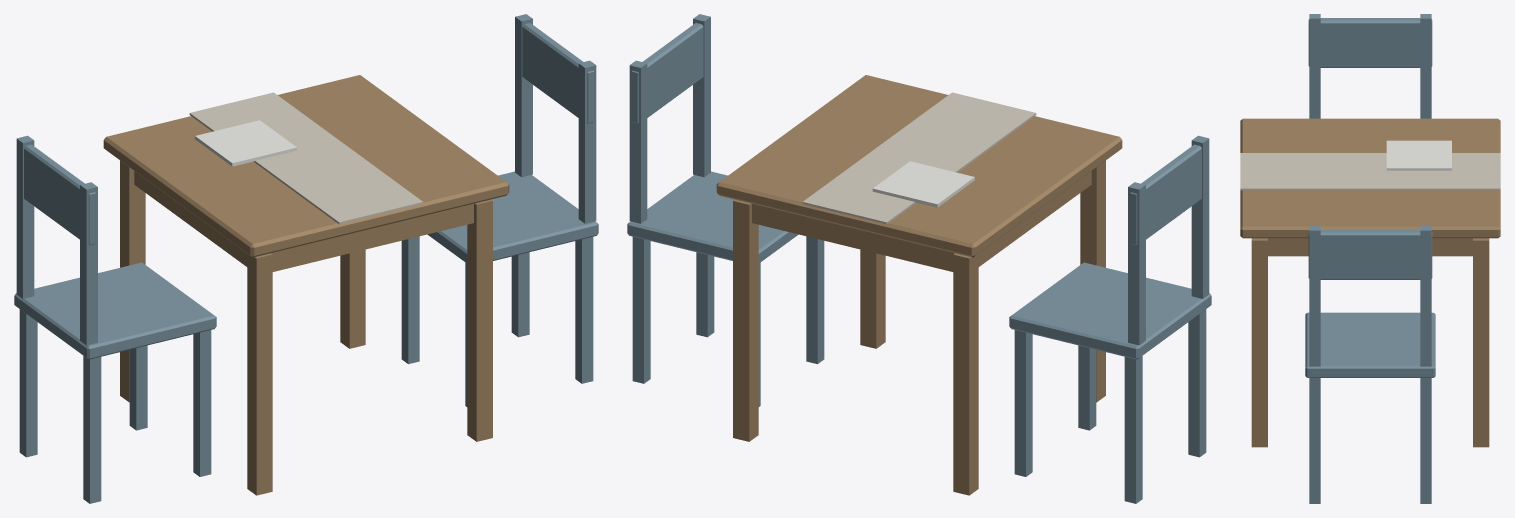
Rendered from table.glb.
3 renders of one model, left to right at view 1: azimuth 30°, elevation 25°; view 2: azimuth 150°, elevation 25°; view 3: azimuth 270°, elevation 25°, orthographic. The views are drawn at different scales.
Visible parts, largest first — view 1: table; view 2: table; view 3: table.
Part boxes in pixels (x1,y1,x2,y2): table: [14, 14, 598, 503]; table: [627, 14, 1211, 503]; table: [1240, 14, 1500, 503].
Size of the model in its own units: 1.58 by 0.93 by 0.8.
